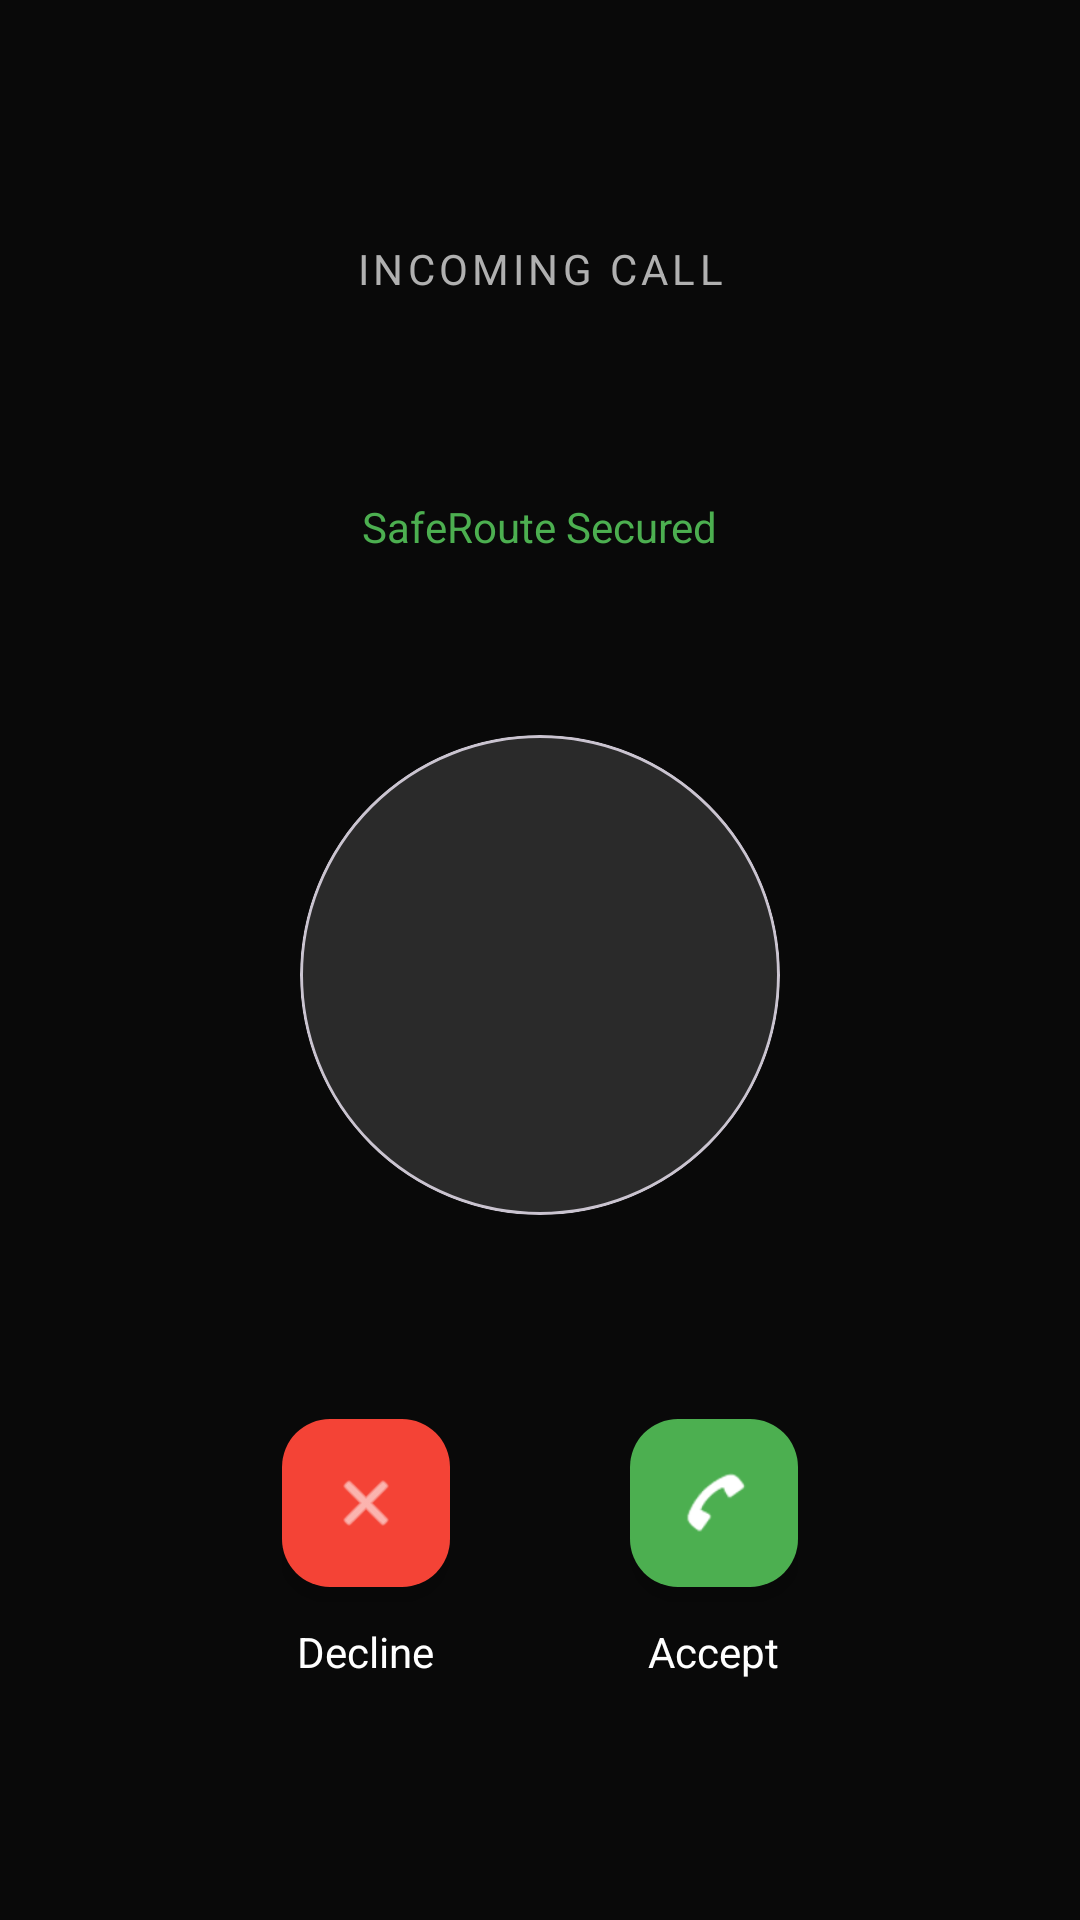

Where to tap for icons on this 1080px x 1920px app screen, as (x=x, y=y):
close clear cancel: (x=366, y=1503)
sym action call: (x=714, y=1503)
